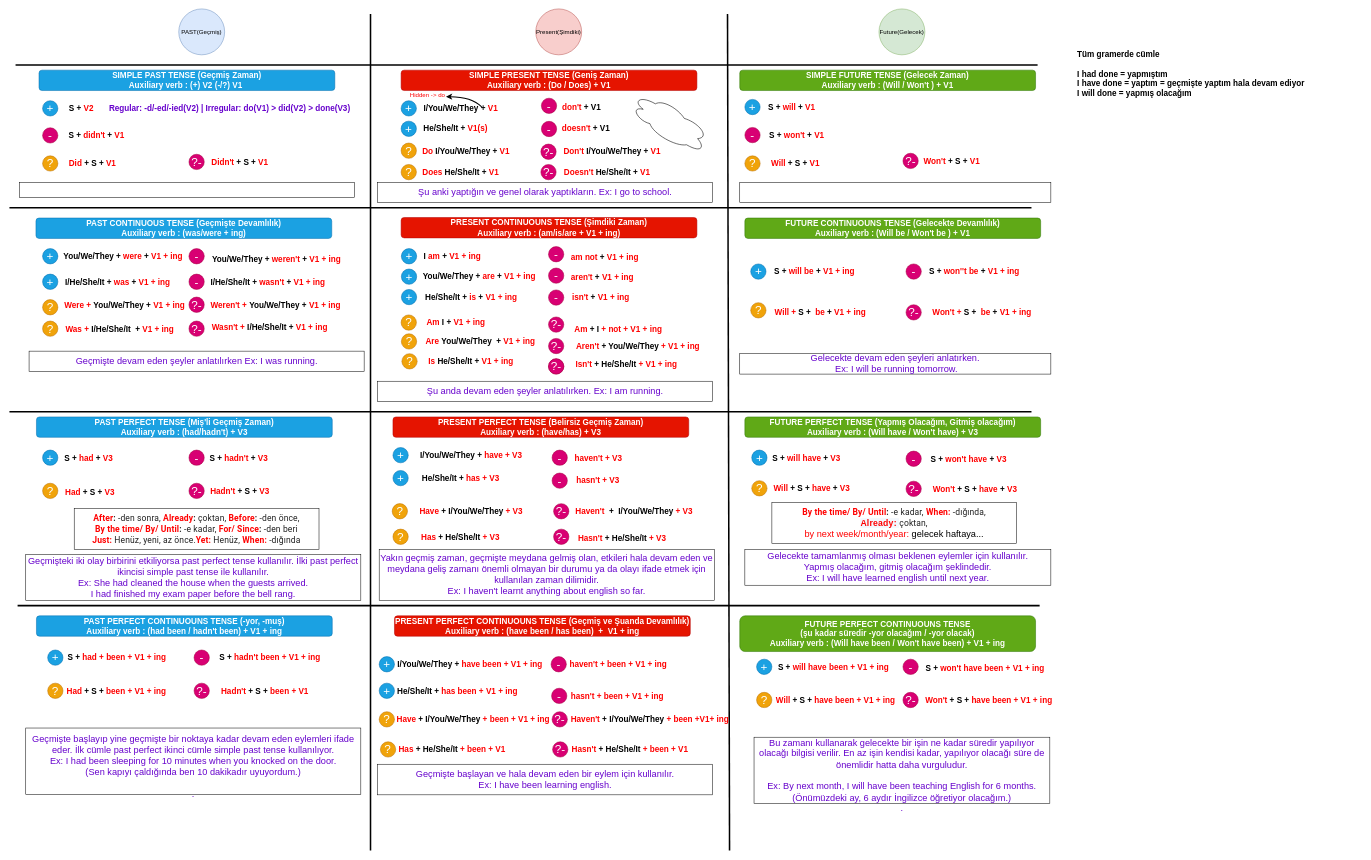
Image size: 1371x860. Some labels were removed from this diagram. The shapes that lost their labels are listed below. From the top down, each one's centre as x and y in pixels, then its label:
point 669,122: Standard
point 186,190: Geçmişte başlamış ve bitmiş olaylar. Ex: I went to school.
point 895,192: Gelecekte yapacaklarını anlatırken.Ex: I will go to school.
